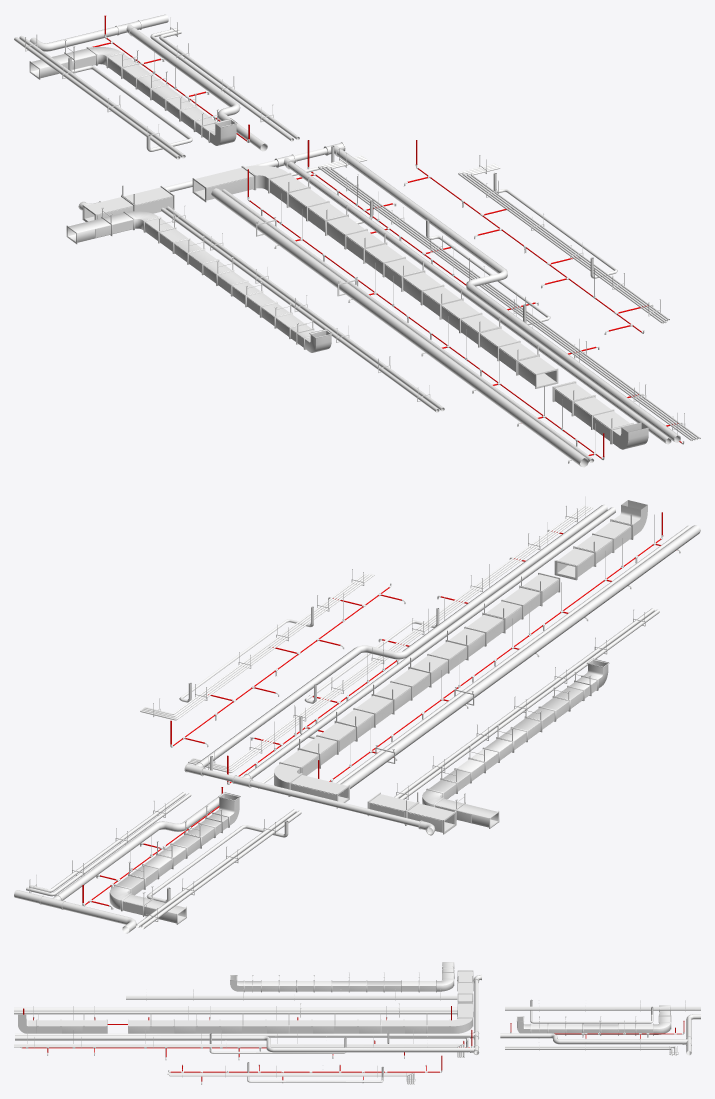
3 views of the same model, one above another, from view 1: azimuth 30°, elevation 25°; view 2: azimuth 150°, elevation 25°; view 3: azimuth 270°, elevation 25° (orthographic). The views are drawn at different scales.
Parts seen in each view (by area): view 1: SM_H_Building_FutureTech_WatchTower_01h; view 2: SM_H_Building_FutureTech_WatchTower_01h; view 3: SM_H_Building_FutureTech_WatchTower_01h.
Boxes of the visible parts, x1,y1,x2,y2 form: SM_H_Building_FutureTech_WatchTower_01h: (14,14,700,467); SM_H_Building_FutureTech_WatchTower_01h: (14,496,700,933); SM_H_Building_FutureTech_WatchTower_01h: (14,962,700,1084).
Bounding box in the file's own units: 1611 × 643 × 58.33.
